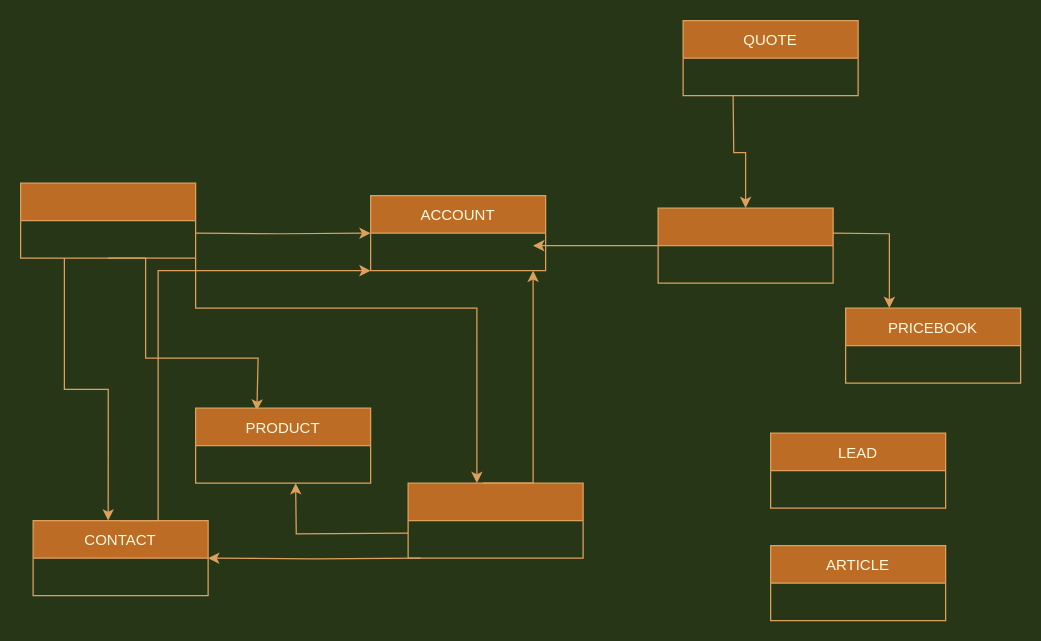
Image size: 1041x641. Some labels were removed from this diagram. The shapes that lost their labels are listed below. From the top down, each one's box as (x1, y1, x2, y2) in pixels, then its label:
(19, 182, 196, 258): CASE
(657, 207, 833, 283): OPPORTUNITY
(407, 482, 583, 558): ASSET
